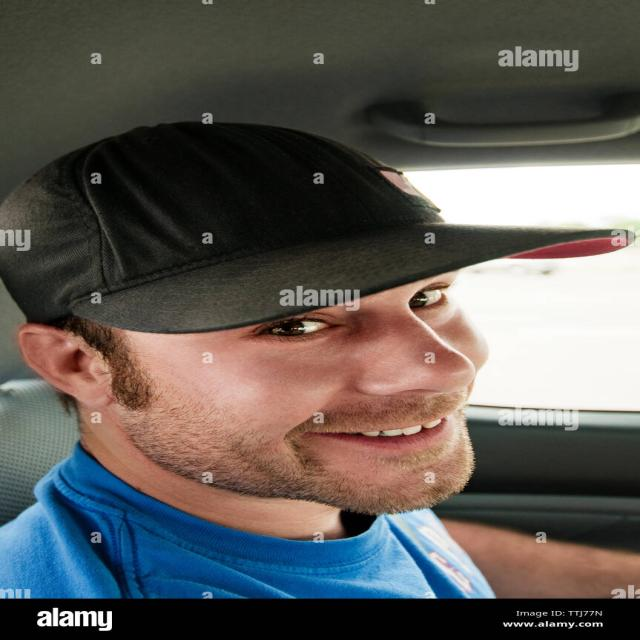3_gorra: (0, 120, 640, 338)
